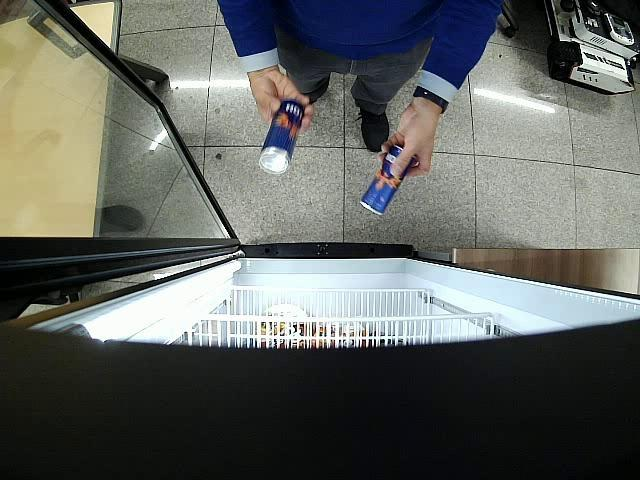16_hot6: (360, 145, 416, 215), (259, 98, 305, 174)
